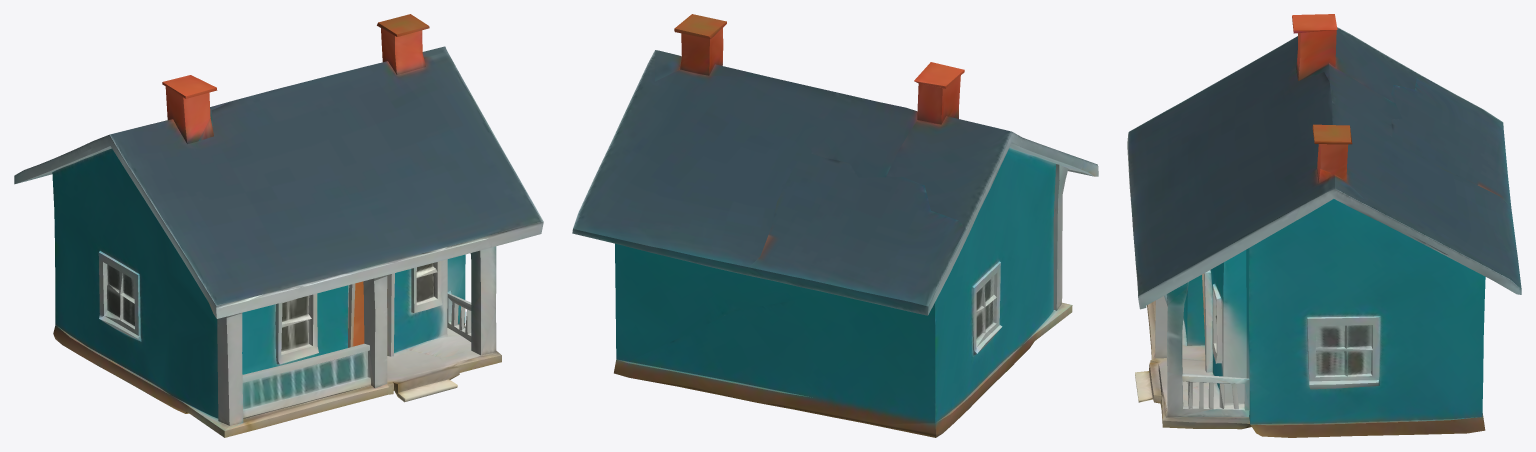
Rendered from houseB.glb.
3 views of the same model, side by side, from view 1: azimuth 30°, elevation 25°; view 2: azimuth 150°, elevation 25°; view 3: azimuth 270°, elevation 25° (orthographic). The views are drawn at different scales.
Parts seen in each view (by area): view 1: model; view 2: model; view 3: model.
Boxes of the visible parts, box(x1,y1,x2,y2) form: model: box(14, 14, 543, 437); model: box(572, 14, 1098, 437); model: box(1127, 14, 1521, 437).
Bounding box in the file's own units: 1.89 × 1.49 × 1.81.
Materials: 1 (1 with a texture image).
